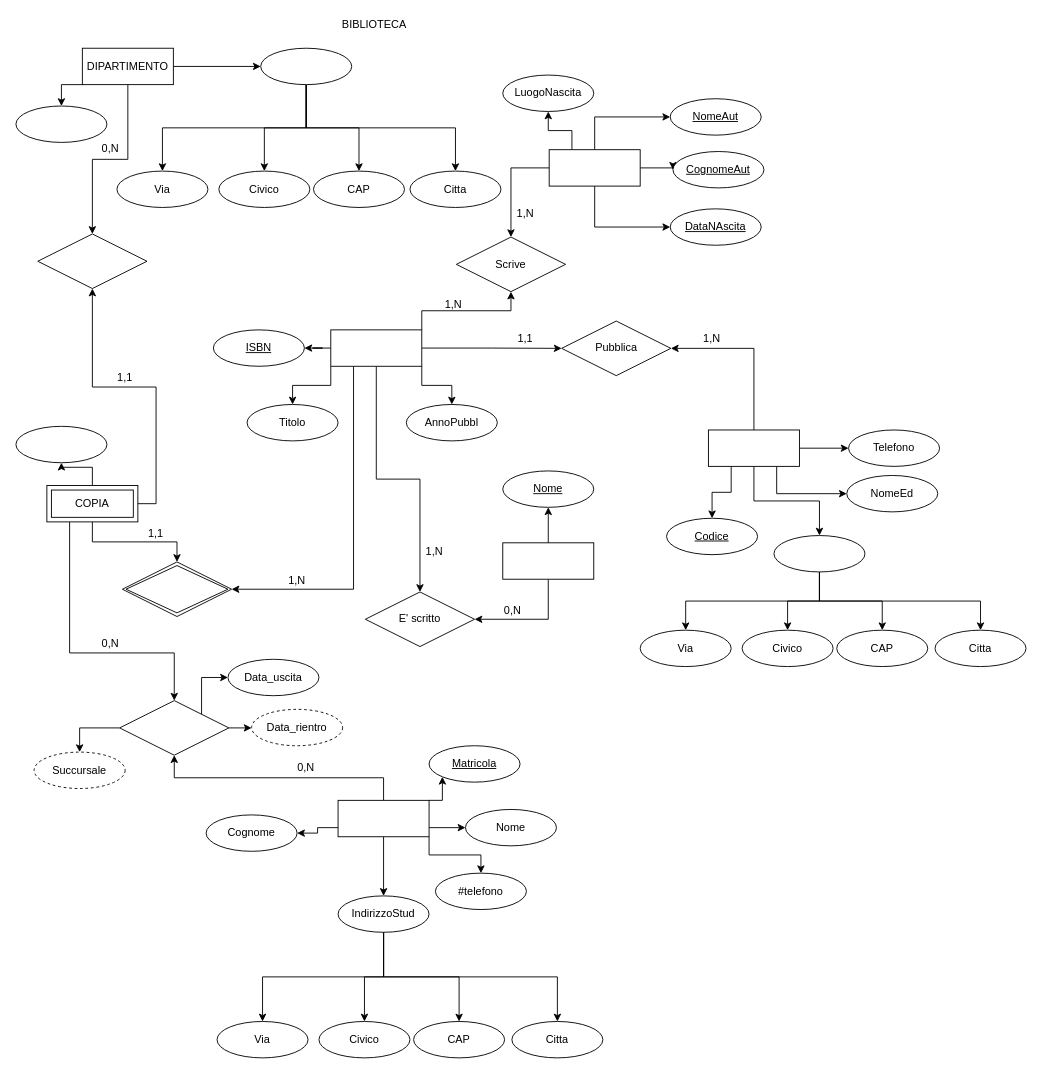
This 1042x1074 diagram has some shape labels left out. Each missing label, with the centre of its shape:
#copia: (x=61, y=444)
AUTORE: (x=594, y=167)
Contiene: (x=92, y=261)
EDITORE: (x=753, y=447)
IndirizzoDip: (x=306, y=66)
IndirizzoEdit: (x=819, y=553)
LIBRO: (x=376, y=347)
LINGUA: (x=548, y=560)
NomeDip: (x=61, y=123)
Possiede: (x=176, y=589)
Prestito: (x=174, y=727)
STUDENTE: (x=383, y=818)
